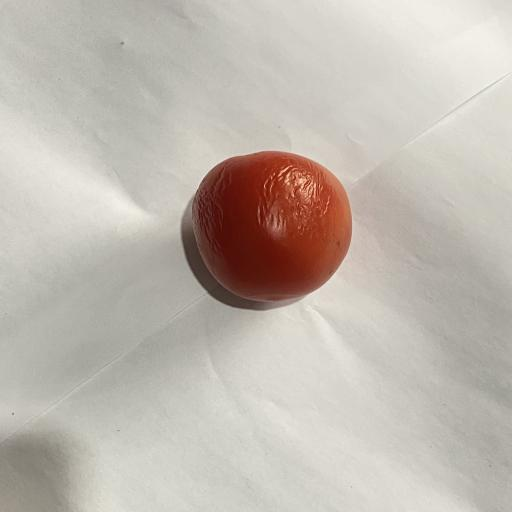spoiled: (192, 151, 351, 302)
